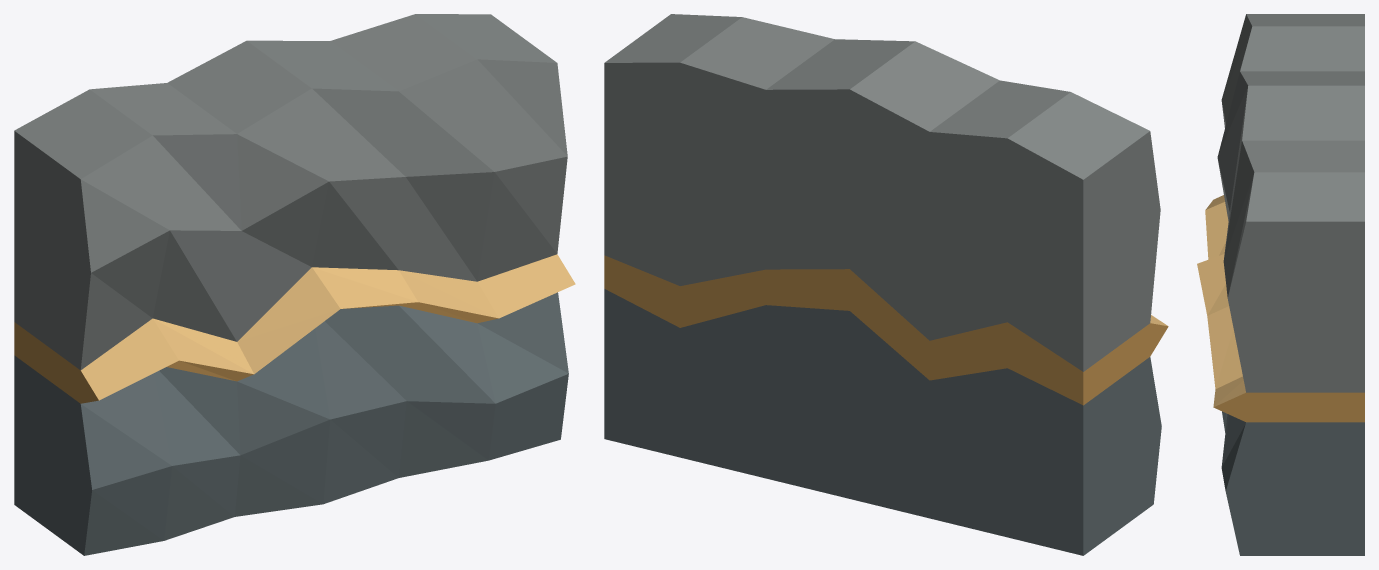
The picture shows the model from 3 angles, left to right: view 1: azimuth 30°, elevation 25°; view 2: azimuth 150°, elevation 25°; view 3: azimuth 270°, elevation 25°; orthographic projection. The views are drawn at different scales.
Visible parts, largest first — view 1: UpperWholeFacetedRock, LowerWholeFacetedRock, WholeContinuousRaisedMineralVein; view 2: UpperWholeFacetedRock, LowerWholeFacetedRock, WholeContinuousRaisedMineralVein; view 3: UpperWholeFacetedRock, LowerWholeFacetedRock, WholeContinuousRaisedMineralVein.
Part boxes in pixels (bbox=[...]): UpperWholeFacetedRock: bbox=[14, 14, 567, 370]; LowerWholeFacetedRock: bbox=[14, 292, 568, 555]; WholeContinuousRaisedMineralVein: bbox=[14, 254, 575, 403]; UpperWholeFacetedRock: bbox=[604, 14, 1160, 371]; LowerWholeFacetedRock: bbox=[604, 289, 1161, 555]; WholeContinuousRaisedMineralVein: bbox=[604, 255, 1168, 405]; UpperWholeFacetedRock: bbox=[1217, 14, 1364, 392]; LowerWholeFacetedRock: bbox=[1221, 411, 1364, 555]; WholeContinuousRaisedMineralVein: bbox=[1197, 195, 1364, 422].
Size of the model in its own units: 2.4 by 1.96 by 0.82.
